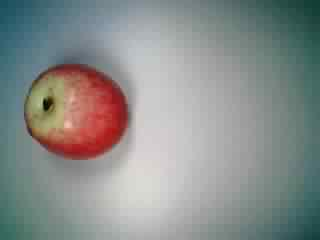apple: (23, 60, 128, 164)
